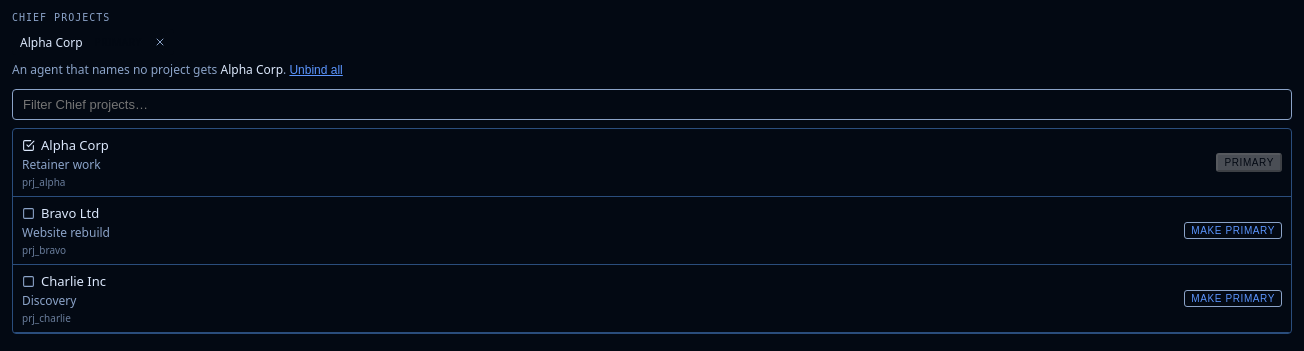
Scenario: ChiefBindingPicker — the current binding, and unbinding › removing the LAST bound project clears the primary to null
Click the button with test id "chief-binding-remove-prj_alpha" at [160, 42], box [154,36,166,48]
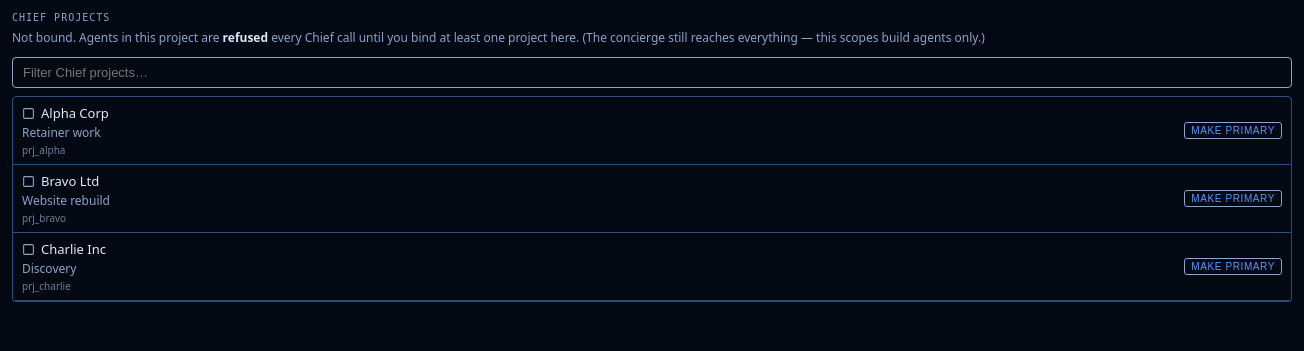
Expected: the element with test id "chief-binding-unbound" is shown, [12,29,985,46]
